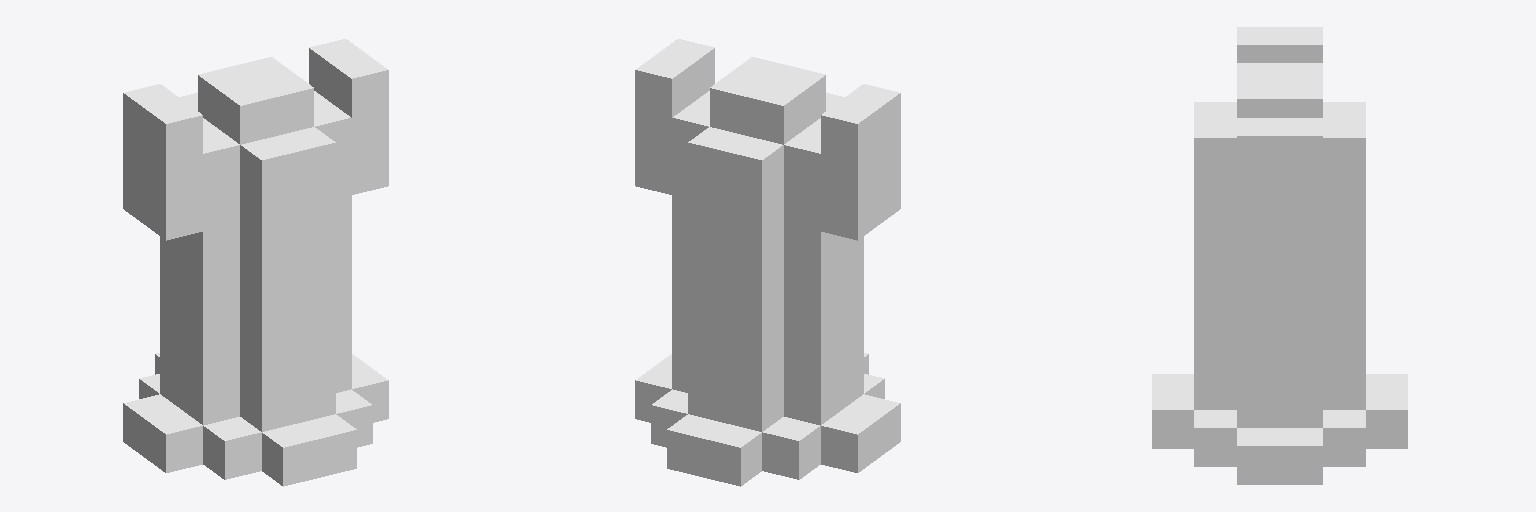
Rendered from tower.obj.
The picture shows the model from 3 angles: view 1: azimuth 30°, elevation 25°; view 2: azimuth 150°, elevation 25°; view 3: azimuth 270°, elevation 25°; orthographic projection.
Size of the model in its own units: 6 by 9 by 6.